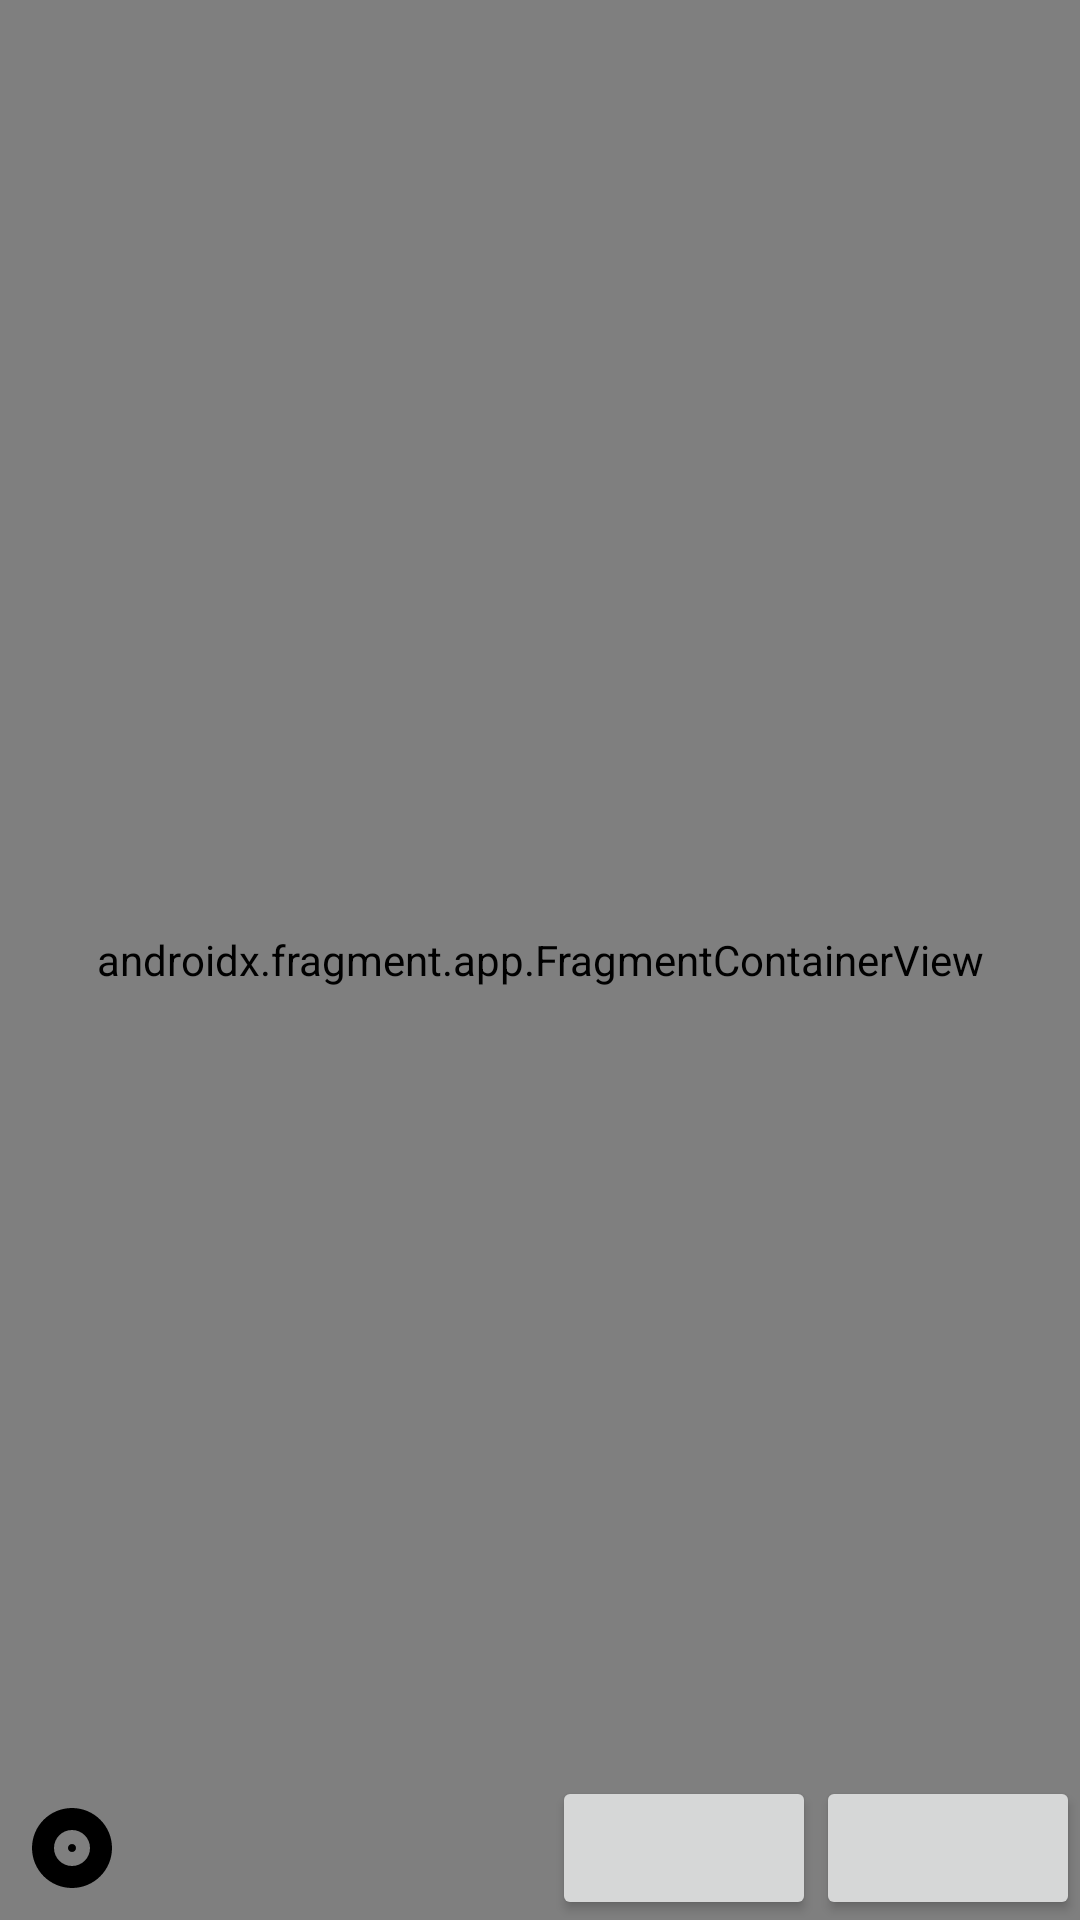

Screen size 1080 x 1920. Icon name, then its center in pixels as point (x, y):
album artwork: point (72, 1848)
